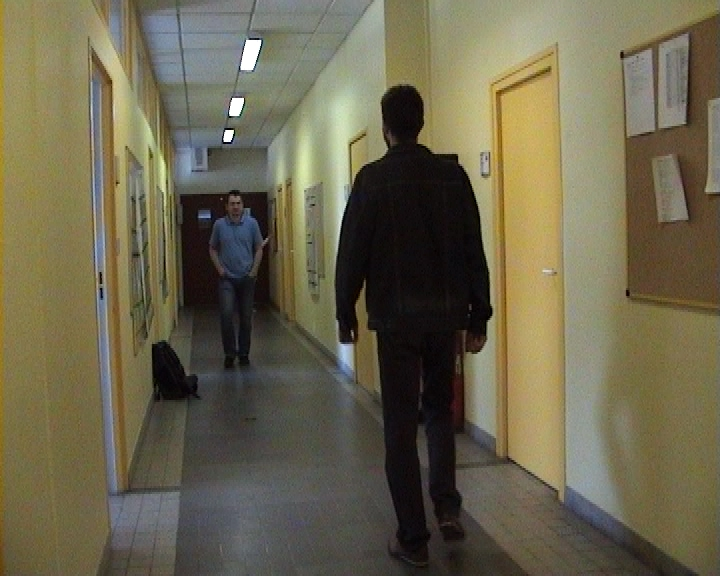leave bag unattended: (135, 323, 213, 422)
